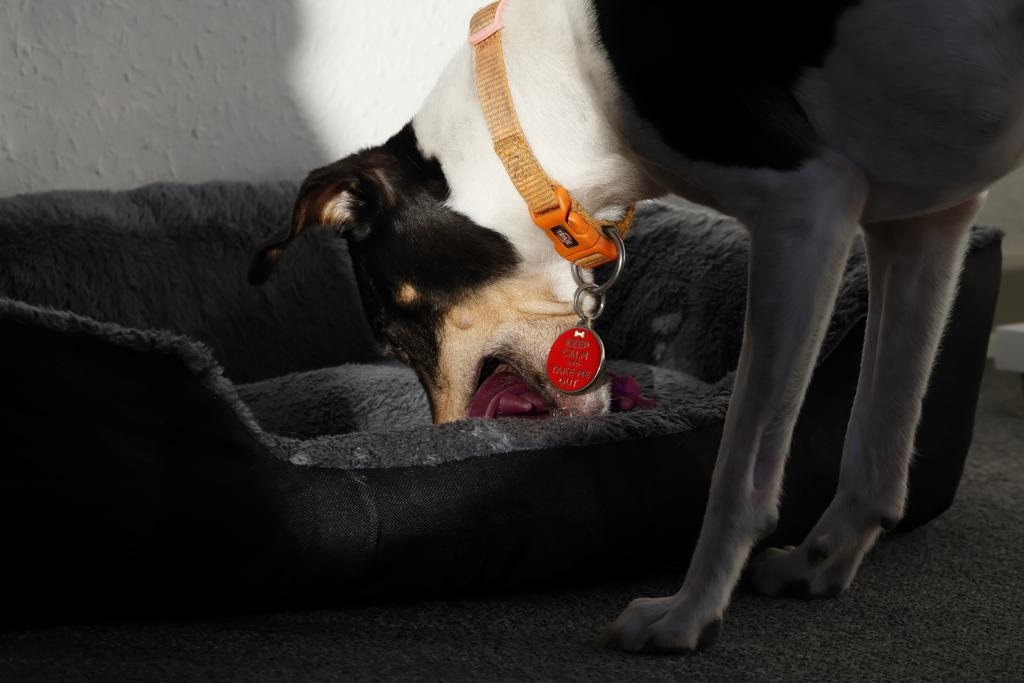Dog: (239, 0, 1024, 663)
